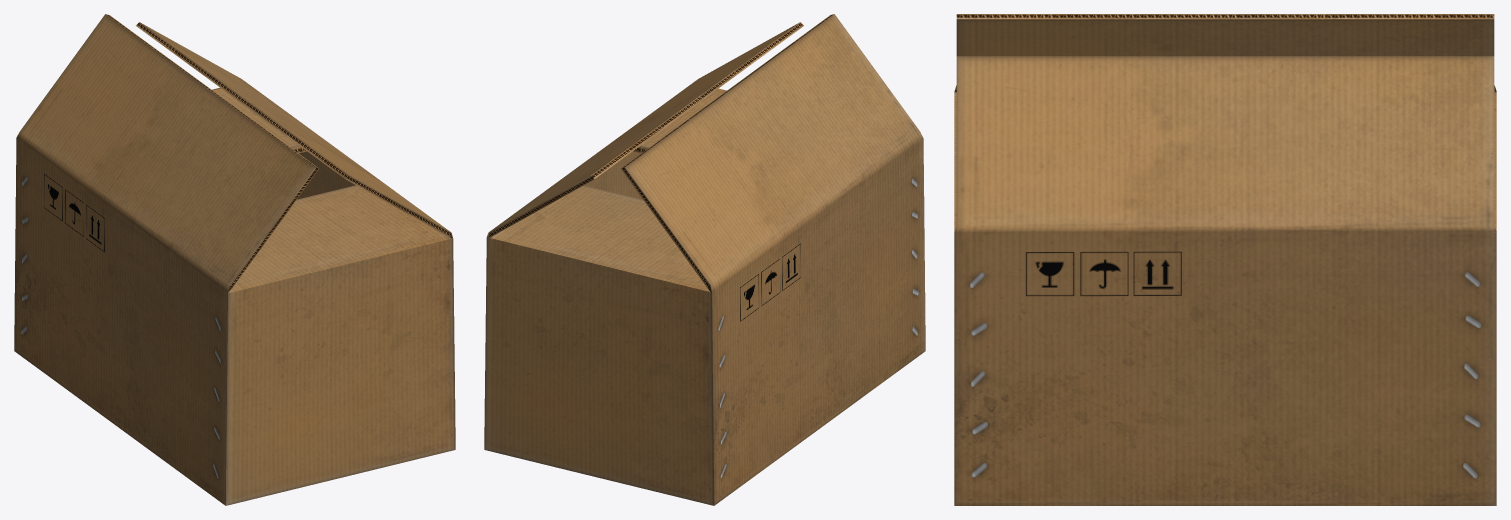
File: ms_paper_box_half.fbx
3 renders of one model, left to right at view 1: azimuth 30°, elevation 25°; view 2: azimuth 150°, elevation 25°; view 3: azimuth 270°, elevation 25°, orthographic. The views are drawn at different scales.
Visible parts, largest first — view 1: ms_paper_box_half; view 2: ms_paper_box_half; view 3: ms_paper_box_half.
Boxes of the visible parts, bbox=[...] form: ms_paper_box_half: bbox=[14, 14, 455, 505]; ms_paper_box_half: bbox=[484, 14, 925, 505]; ms_paper_box_half: bbox=[954, 14, 1496, 505].
Size of the model in its own units: 26.22 by 34.39 by 41.77.
